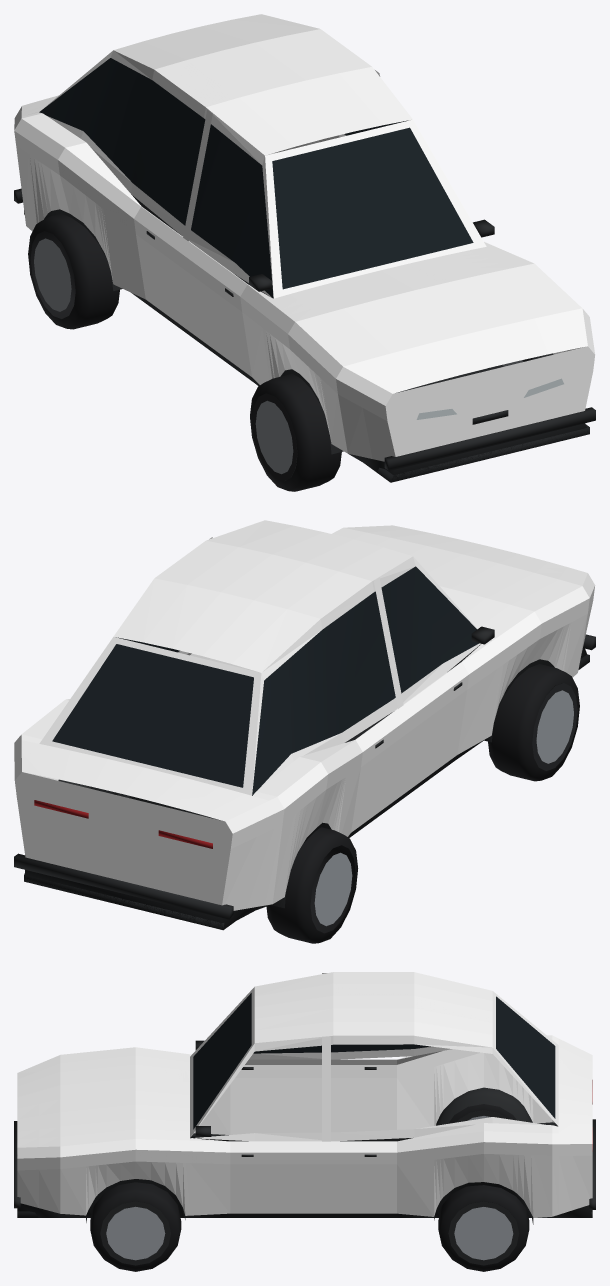
File: halberton_planalto.glb
3 views of the same model, one above another, from view 1: azimuth 30°, elevation 25°; view 2: azimuth 150°, elevation 25°; view 3: azimuth 270°, elevation 25° (orthographic). The views are drawn at different scales.
Visible parts, largest first — view 1: Body_Paint, Body_Details, Mount_FrontLeft_Wheel_Details, Mount_RearLeft_Wheel_Details; view 2: Body_Paint, Body_Details, Mount_FrontLeft_Wheel_Details, Mount_RearLeft_Wheel_Details; view 3: Body_Paint, Body_Details, Mount_FrontRight_Wheel_Details, Mount_RearRight_Wheel_Details, Mount_RearLeft_Wheel_Details.
Part boxes in pixels (box(x1,y1,x2,y2)): Body_Paint: box(14, 14, 595, 461); Body_Details: box(14, 58, 595, 482); Mount_FrontLeft_Wheel_Details: box(250, 374, 341, 491); Mount_RearLeft_Wheel_Details: box(28, 214, 119, 329); Body_Paint: box(14, 520, 595, 910); Body_Details: box(14, 566, 595, 930); Mount_FrontLeft_Wheel_Details: box(488, 664, 579, 781); Mount_RearLeft_Wheel_Details: box(266, 827, 358, 943); Body_Paint: box(17, 972, 592, 1217); Body_Details: box(14, 993, 595, 1224); Mount_FrontRight_Wheel_Details: box(90, 1182, 181, 1271); Mount_RearRight_Wheel_Details: box(438, 1185, 529, 1271); Mount_RearLeft_Wheel_Details: box(448, 1104, 516, 1123).
Size of the model in its own units: 2.13 by 2.02 by 4.86.
Materials: 2 (1 with a texture image).
